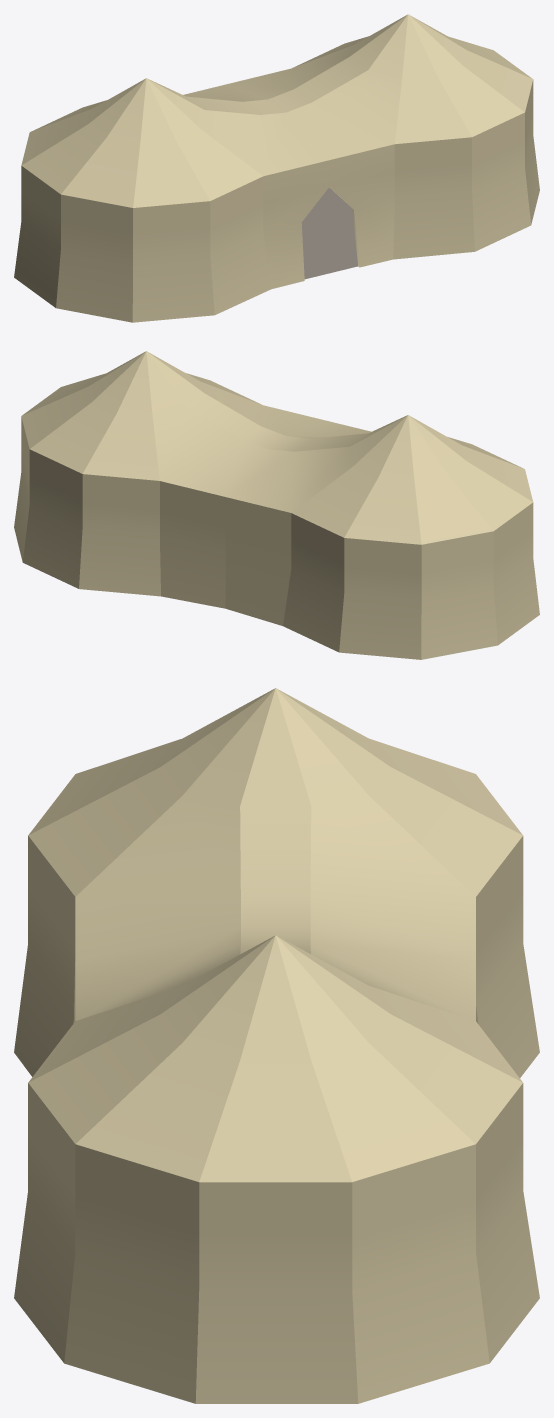
Rendered from Circus_Tent_01.fbx.
The picture shows the model from 3 angles, top to bottom: view 1: azimuth 30°, elevation 25°; view 2: azimuth 150°, elevation 25°; view 3: azimuth 270°, elevation 25°; orthographic projection. The views are drawn at different scales.
Parts seen in each view (by area): view 1: Circus_Tent_01; view 2: Circus_Tent_01; view 3: Circus_Tent_01.
Boxes of the visible parts, x1=… form: Circus_Tent_01: x1=14, y1=14, x2=539, y2=322; Circus_Tent_01: x1=14, y1=351, x2=539, y2=659; Circus_Tent_01: x1=14, y1=688, x2=539, y2=1403.
Bounding box in the file's own units: 26.72 × 9.91 × 12.99.
